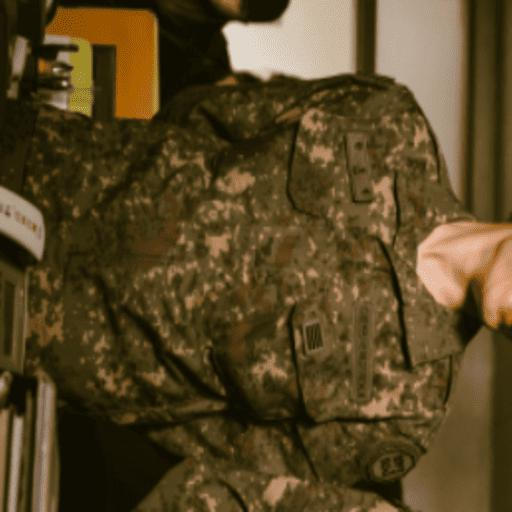korea army: (2, 0, 506, 510)
